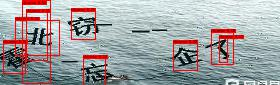chinese: (203, 38, 239, 62), (69, 15, 104, 39), (2, 46, 31, 71), (83, 60, 115, 81), (174, 44, 198, 69), (24, 25, 52, 46)
